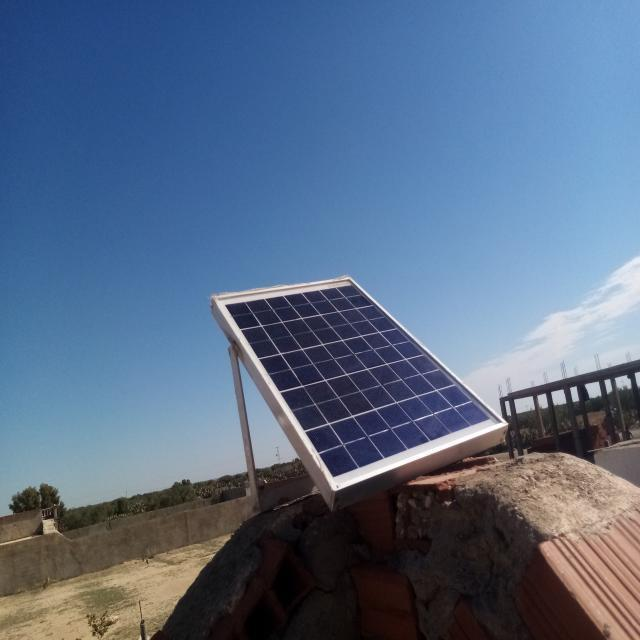Normal Solar Panel: (217, 273, 508, 492)
